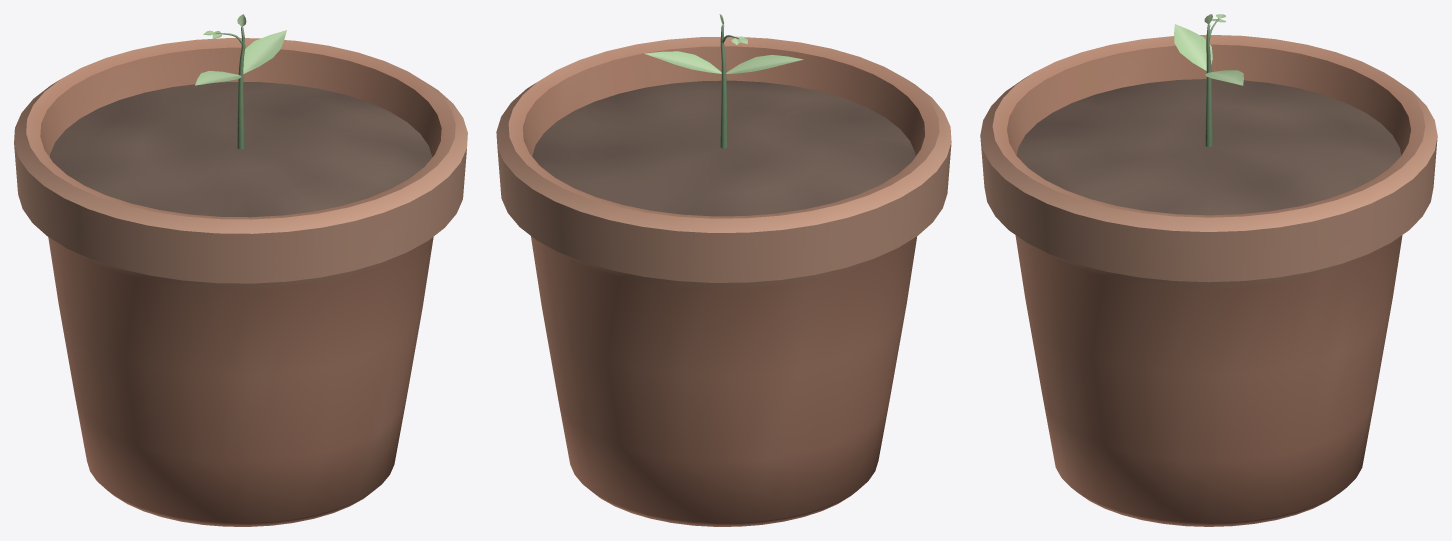
File: tomato_stage1.glb
3 views of the same model, side by side, from view 1: azimuth 30°, elevation 25°; view 2: azimuth 150°, elevation 25°; view 3: azimuth 270°, elevation 25° (orthographic).
Parts seen in each view (by area): view 1: tomato_stage1; view 2: tomato_stage1; view 3: tomato_stage1.
Part boxes in pixels (x1,y1,x2,y2): tomato_stage1: (14, 14, 467, 526); tomato_stage1: (496, 14, 951, 526); tomato_stage1: (980, 14, 1437, 526).
Size of what is drawn, in the model's own units: 0.224 by 0.2446 by 0.224.
